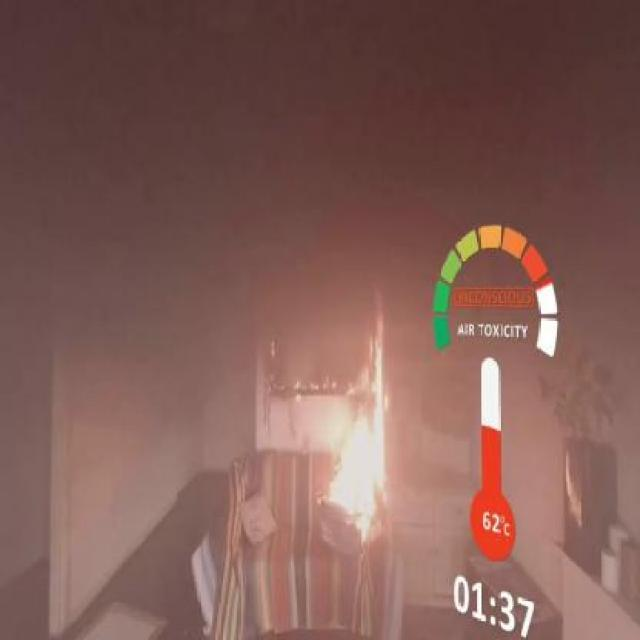fire: (287, 266, 416, 572)
smoke: (65, 21, 452, 347)
